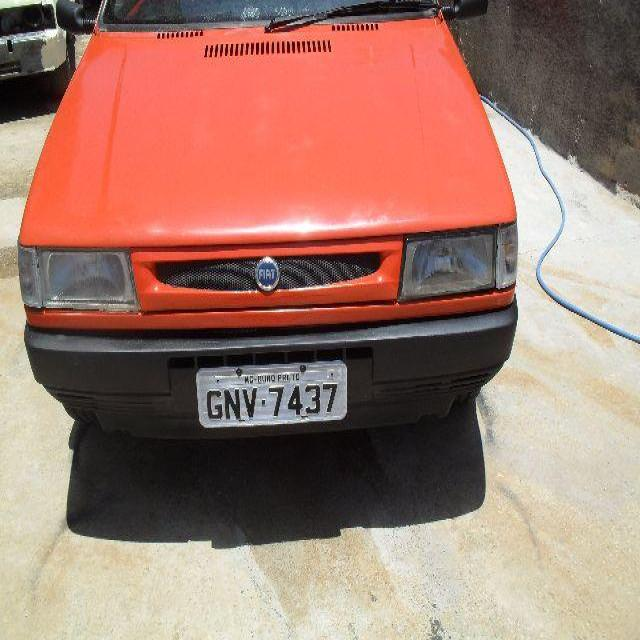Placa: (194, 355, 349, 432)
